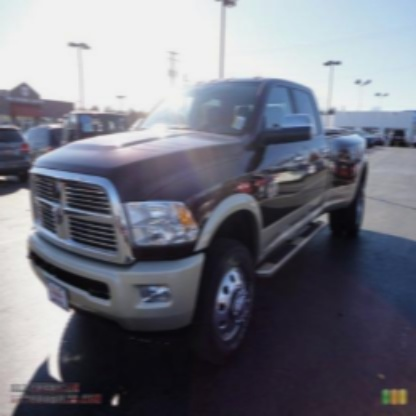Vehicle: (25, 75, 367, 348)
